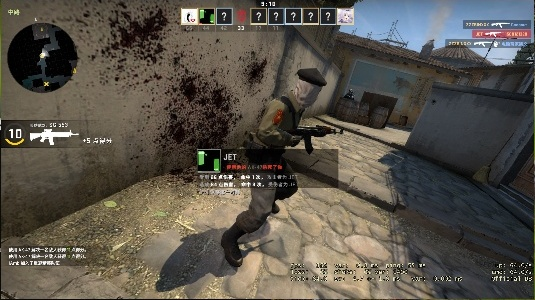body: (230, 69, 316, 267), (343, 87, 354, 99)
head: (294, 71, 320, 109), (349, 88, 353, 95)
